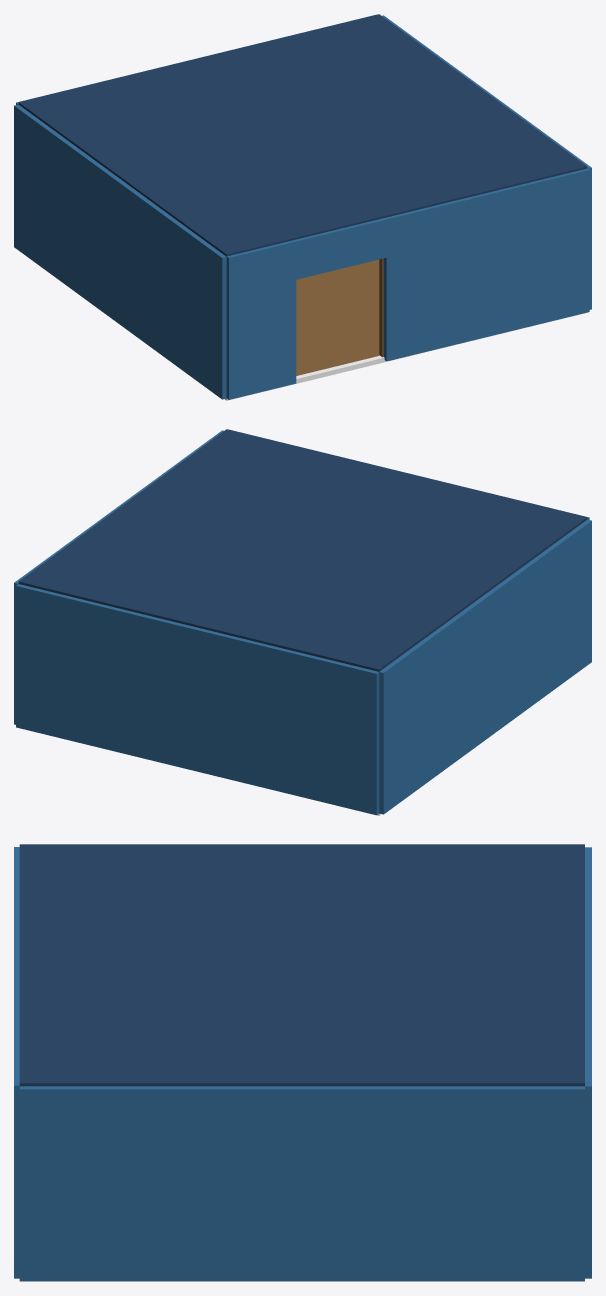
The model's file is NeonRoom.glb.
The picture shows the model from 3 angles, top to bottom: view 1: azimuth 30°, elevation 25°; view 2: azimuth 150°, elevation 25°; view 3: azimuth 270°, elevation 25°; orthographic projection. The views are drawn at different scales.
Visible parts, largest first — view 1: Ceiling, Wall_Left, FWall_Right, FWall_Left, Door_Panel, FWall_DoorTop, FWall_Top, Floor, Wall_Right; view 2: Ceiling, Wall_Back, Wall_Left, Wall_Right; view 3: Ceiling, Wall_Right, Wall_Back, FWall_Top, FWall_Right, Floor.
Part boxes in pixels (left/top/right/bottom): Ceiling: left=18, top=14, right=587, bottom=256; Wall_Left: left=14, top=104, right=226, bottom=399; FWall_Right: left=383, top=170, right=589, bottom=361; FWall_Left: left=226, top=242, right=296, bottom=399; Door_Panel: left=296, top=259, right=379, bottom=375; FWall_DoorTop: left=296, top=220, right=386, bottom=279; FWall_Top: left=224, top=168, right=589, bottom=258; Floor: left=224, top=312, right=586, bottom=400; Wall_Right: left=382, top=15, right=591, bottom=309; Ceiling: left=18, top=429, right=587, bottom=671; Wall_Back: left=16, top=584, right=379, bottom=815; Wall_Left: left=379, top=519, right=591, bottom=814; Wall_Right: left=14, top=430, right=223, bottom=724; Ceiling: left=19, top=844, right=584, bottom=1086; Wall_Right: left=19, top=1086, right=584, bottom=1281; Wall_Back: left=585, top=847, right=591, bottom=1278; FWall_Top: left=14, top=847, right=19, bottom=1086; FWall_Right: left=14, top=1086, right=19, bottom=1278; Floor: left=20, top=1281, right=584, bottom=1281.
Size of the model in its own units: 8.2 by 4.05 by 8.18.
